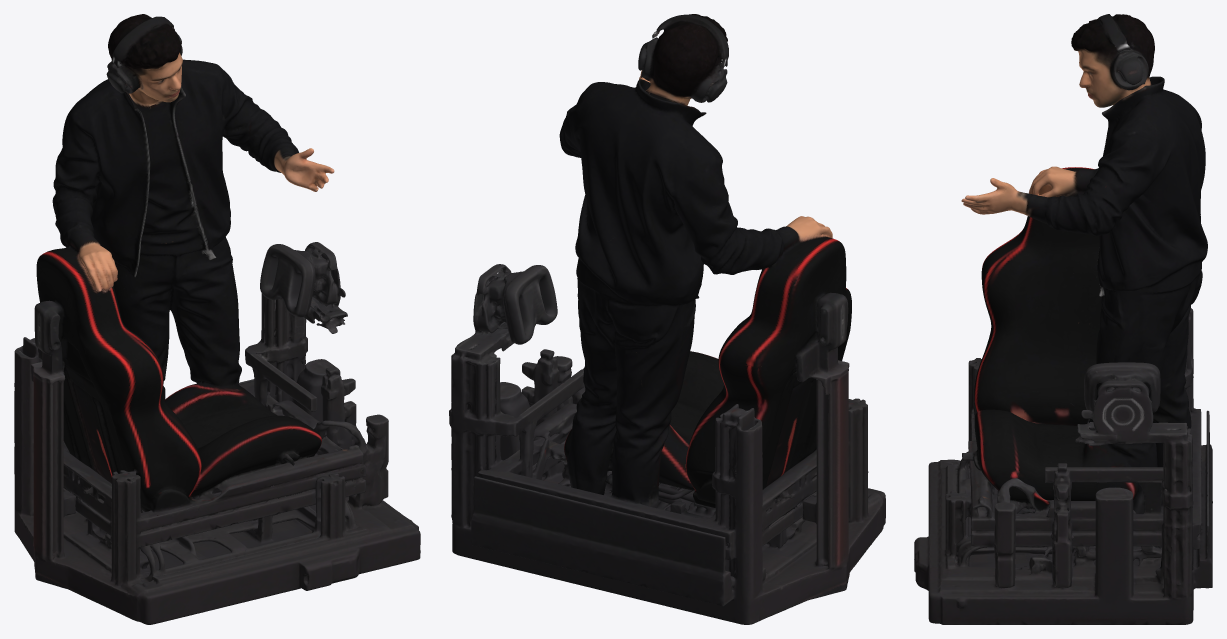
Rendered from gamer_pose2.glb.
3 views of the same model, side by side, from view 1: azimuth 30°, elevation 25°; view 2: azimuth 150°, elevation 25°; view 3: azimuth 270°, elevation 25° (orthographic). The views are drawn at different scales.
Bounding box in the file's own units: 1.22 × 1.9 × 0.9914.
1 material, 1 textured.
